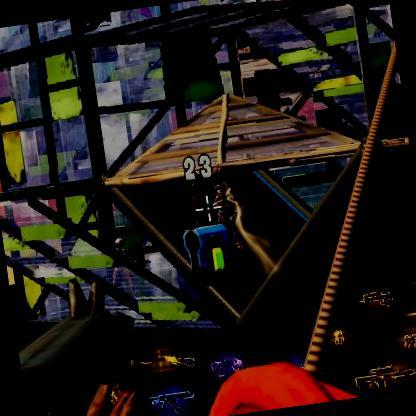person: (206, 178, 246, 254), (112, 233, 126, 258)
